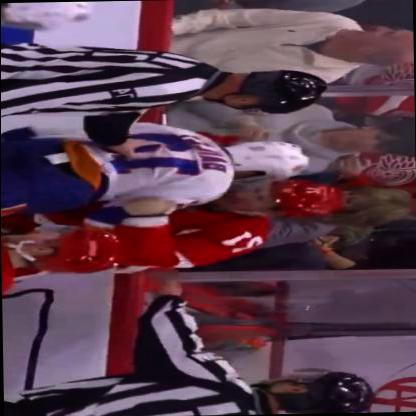non-Voilence: (1, 37, 329, 139), (3, 347, 379, 416)
voilence: (1, 116, 348, 274)
